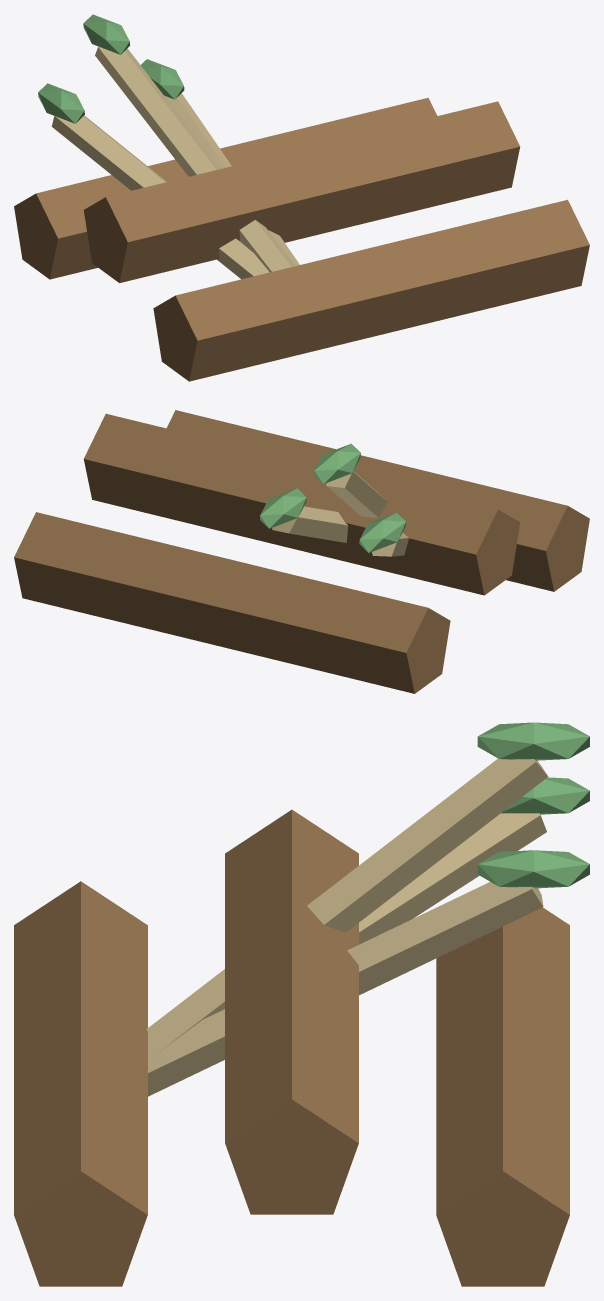
Rendered from briarfen_willow_cuttings.lod1.glb.
The picture shows the model from 3 angles, top to bottom: view 1: azimuth 30°, elevation 25°; view 2: azimuth 150°, elevation 25°; view 3: azimuth 270°, elevation 25°; orthographic projection. The views are drawn at different scales.
Size of the model in its own units: 1.56 by 0.8485 by 1.31.
